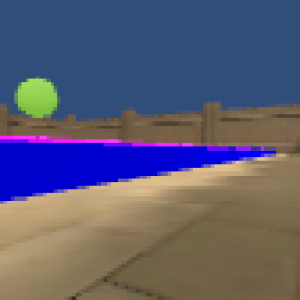goodGoal: (10, 73, 62, 122)
platform: (1, 149, 283, 199)
ramp: (1, 134, 200, 147)
